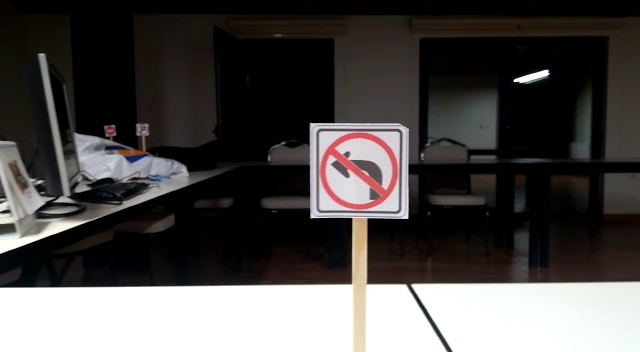sola_donulmez: (313, 129, 404, 220)
